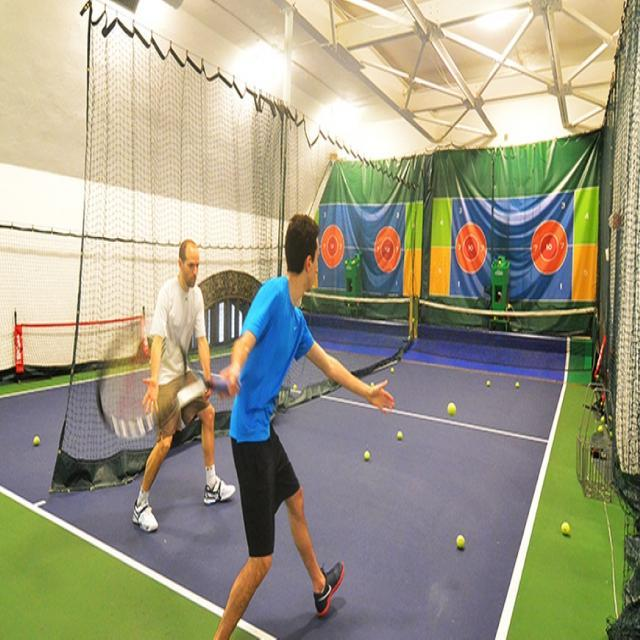net: (412, 290, 603, 386)
player: (96, 199, 398, 640)
